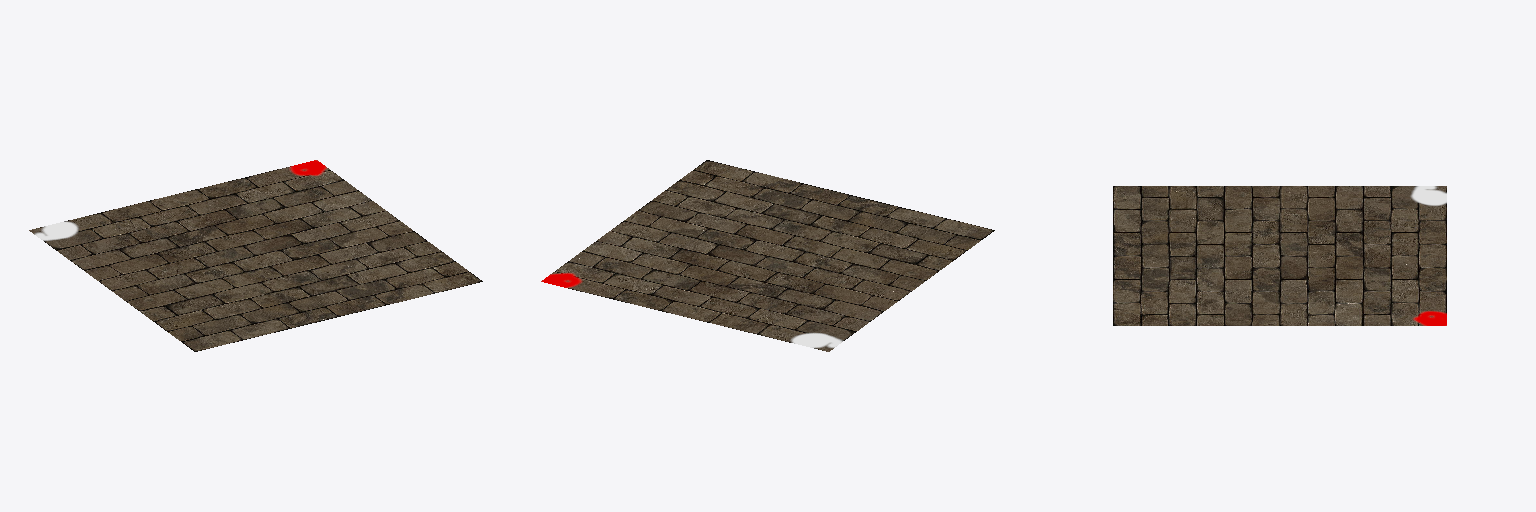
3 views of the same model, side by side, from view 1: azimuth 30°, elevation 25°; view 2: azimuth 150°, elevation 25°; view 3: azimuth 270°, elevation 25° (orthographic).
Parts seen in each view (by area): view 1: BrickWall; view 2: BrickWall; view 3: BrickWall.
Part boxes in pixels (x1,y1,x2,y2): BrickWall: (29, 160, 482, 351); BrickWall: (541, 160, 994, 351); BrickWall: (1113, 186, 1446, 325).
Bounding box in the file's own units: 1 × 0 × 1.
Materials: 1 (1 with a texture image).